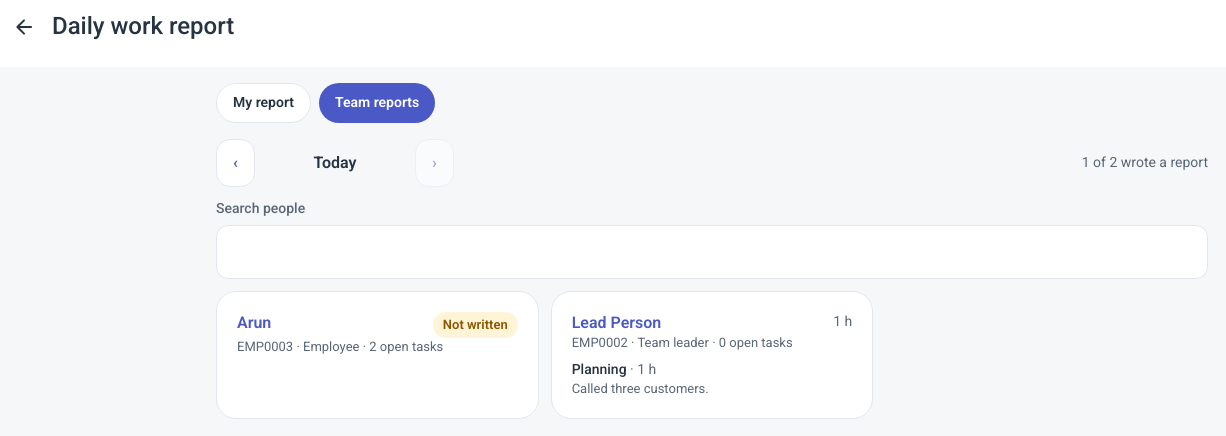
it: Daily work report › team reports list who wrote and who did not
Check: the text "1 of 2 wrote a report" is shown, box [1082,153,1208,173]
Check: the text "Not written" is shown, box [433,312,518,338]
In the field labelled "Search people": (712, 252) [217,226,1207,278], type "lead"
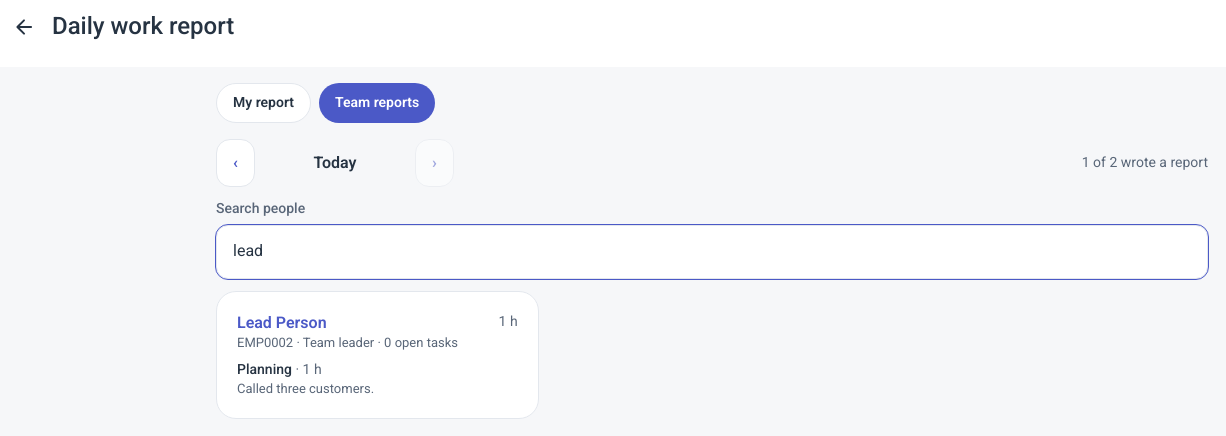
Check: the link "Arun" is gone
